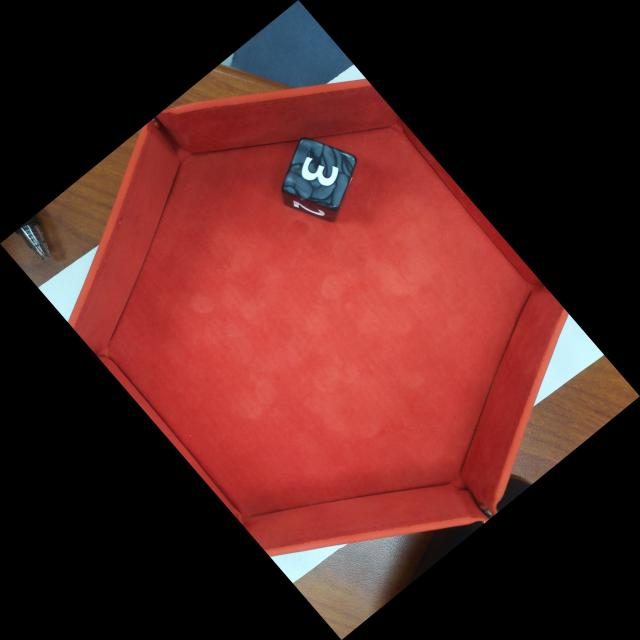dice: (278, 134, 361, 211)
